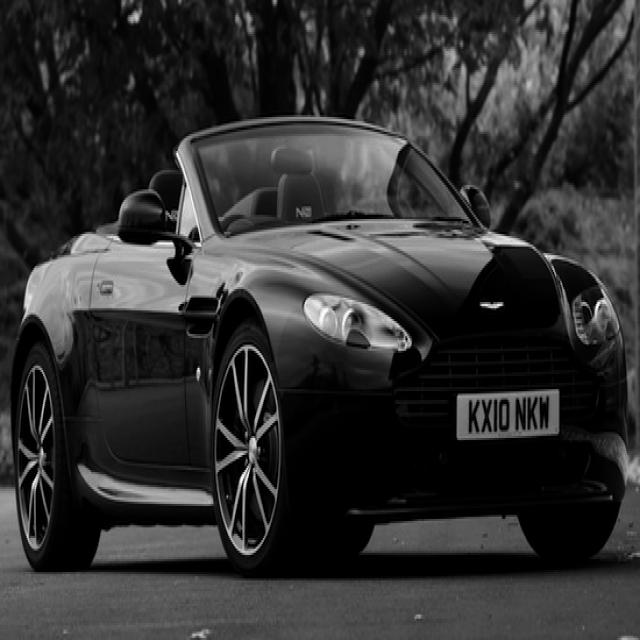car: (9, 113, 630, 576)
plat_license: (454, 385, 561, 442)
